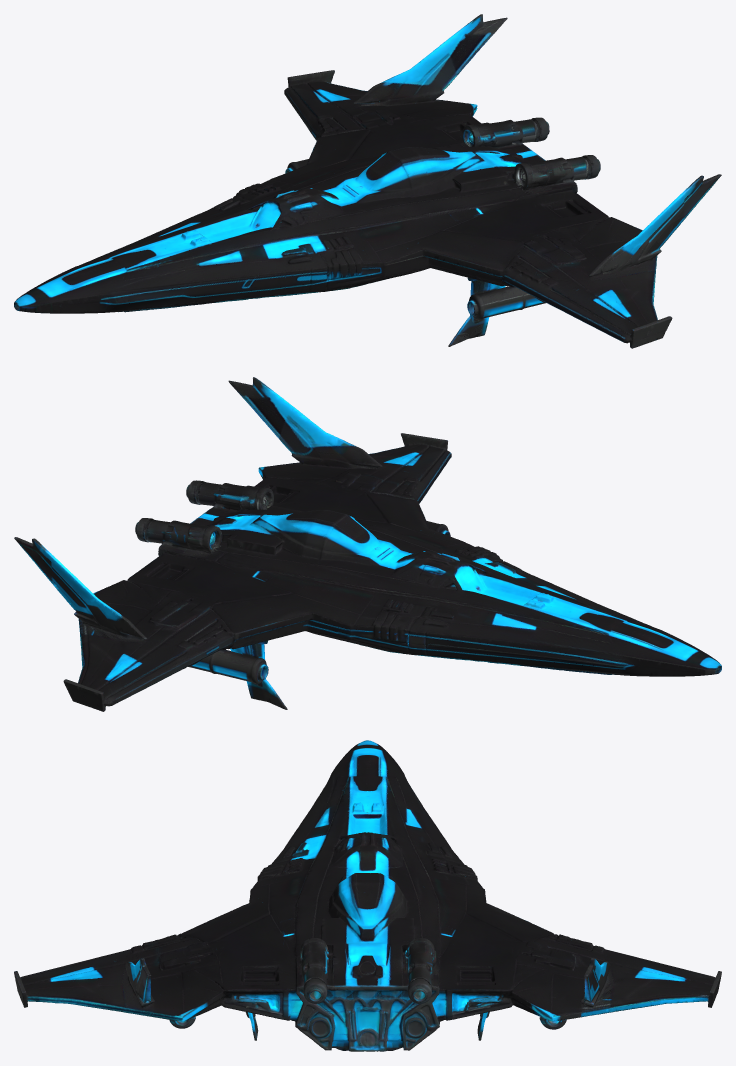
File: syphon.glb
3 renders of one model, top to bottom at view 1: azimuth 30°, elevation 25°; view 2: azimuth 150°, elevation 25°; view 3: azimuth 270°, elevation 25°, orthographic. The views are drawn at different scales.
Size of the model in its own units: 1.89 by 0.494 by 1.9.
1 material, 1 textured.
